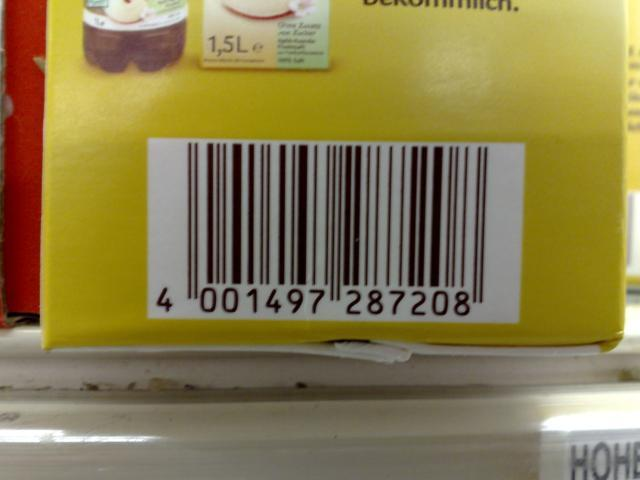Barcode: (148, 137, 497, 324)
